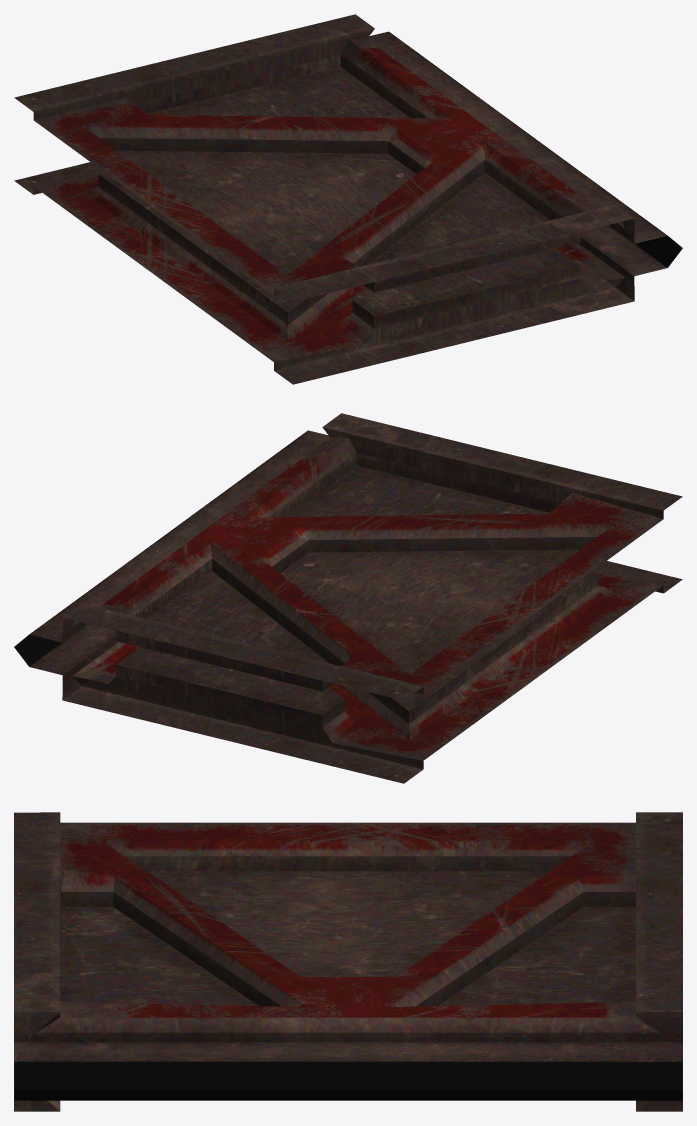
Rendered from ContDoorRight.dae.
3 renders of one model, top to bottom at view 1: azimuth 30°, elevation 25°; view 2: azimuth 150°, elevation 25°; view 3: azimuth 270°, elevation 25°, orthographic. The views are drawn at different scales.
Parts seen in each view (by area): view 1: ContDoorRight; view 2: ContDoorRight; view 3: ContDoorRight.
Boxes of the visible parts, x1,y1,x2,y2 form: ContDoorRight: (14, 14, 682, 384); ContDoorRight: (14, 413, 682, 783); ContDoorRight: (14, 812, 682, 1111).
Size of the model in its own units: 4.63 by 5.74 by 0.9427.
1 material, 1 textured.
